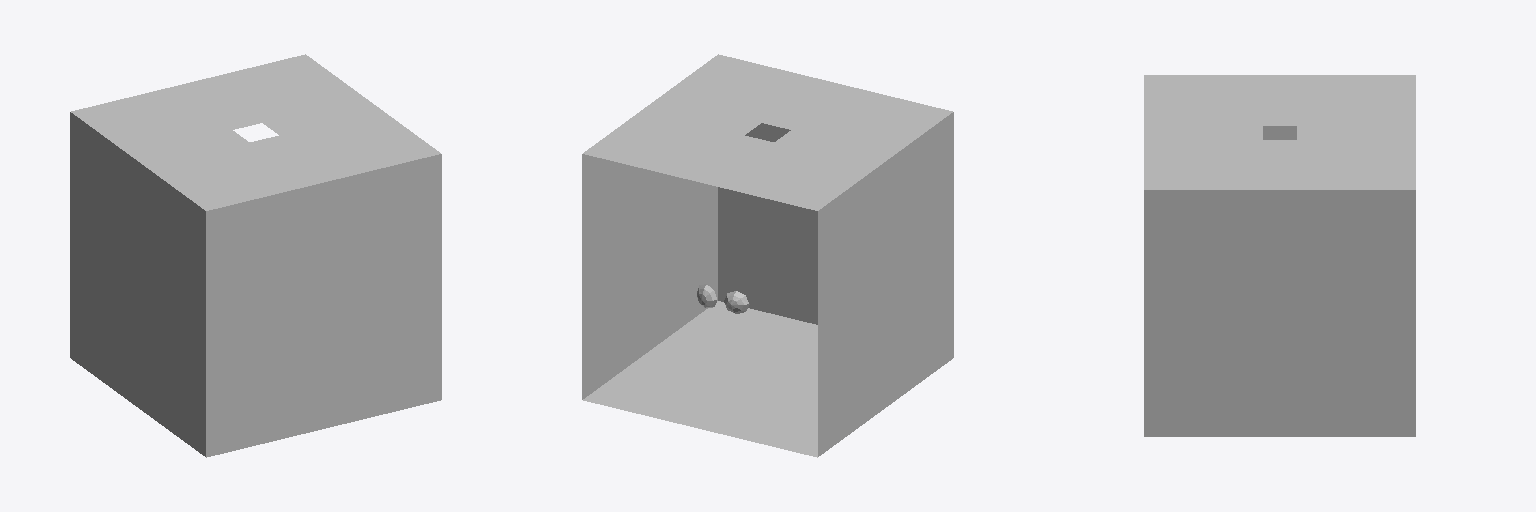
File: room.obj
3 renders of one model, left to right at view 1: azimuth 30°, elevation 25°; view 2: azimuth 150°, elevation 25°; view 3: azimuth 270°, elevation 25°, orthographic.
Visible parts, largest first — view 1: Cube; view 2: Cube; view 3: Cube.
Part boxes in pixels (x1,y1,x2,y2): Cube: (70,54,441,457); Cube: (582,54,953,457); Cube: (1144,75,1415,436).
Bounding box in the file's own units: 5.53 × 5.53 × 5.53.